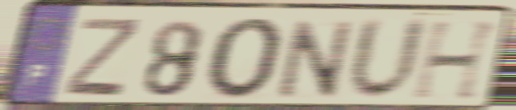8: (142, 17, 206, 99)
H: (409, 18, 505, 103)
N: (275, 17, 357, 101)
O: (204, 15, 288, 103)
U: (344, 15, 431, 105)
Z: (61, 15, 144, 100)
